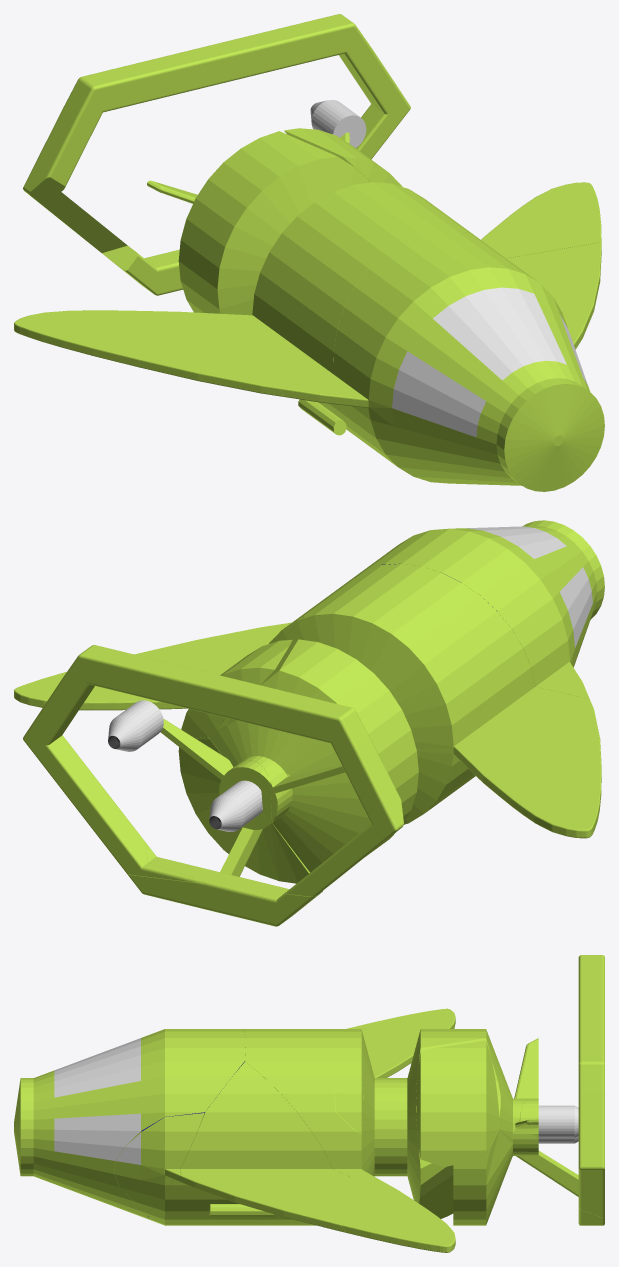
The model's file is ElectroImpulseShip_Destruct.fbx.
3 renders of one model, top to bottom at view 1: azimuth 30°, elevation 25°; view 2: azimuth 150°, elevation 25°; view 3: azimuth 270°, elevation 25°, orthographic. The views are drawn at different scales.
Parts seen in each view (by area): view 1: ElectroImpulse_Frag.00, ElectroImpulse_Frag.11, ElectroImpulse_Frag.08, ElectroImpulse_Frag.02, ElectroImpulse_Frag.09, ElectroImpulse_Frag.05, ElectroImpulse_Frag.04, ElectroImpulse_Frag.01; view 2: ElectroImpulse_Frag.11, ElectroImpulse_Frag.08, ElectroImpulse_Frag.00, ElectroImpulse_Frag.05, ElectroImpulse_Frag.09, ElectroImpulse_Frag.04, ElectroImpulse_Frag.02, ElectroImpulse_Frag.01; view 3: ElectroImpulse_Frag.11, ElectroImpulse_Frag.00, ElectroImpulse_Frag.09, ElectroImpulse_Frag.04, ElectroImpulse_Frag.08, ElectroImpulse_Frag.05, ElectroImpulse_Frag.02, ElectroImpulse_Frag.07, ElectroImpulse_Frag.01, ElectroImpulse_Frag.06, ElectroImpulse_Frag.10.
Boxes of the visible parts, bbox=[...] form: ElectroImpulse_Frag.00: bbox=[281, 232, 604, 491]; ElectroImpulse_Frag.11: bbox=[14, 131, 470, 446]; ElectroImpulse_Frag.08: bbox=[23, 14, 410, 252]; ElectroImpulse_Frag.02: bbox=[481, 182, 601, 258]; ElectroImpulse_Frag.09: bbox=[461, 232, 601, 348]; ElectroImpulse_Frag.05: bbox=[102, 132, 349, 295]; ElectroImpulse_Frag.04: bbox=[284, 128, 402, 186]; ElectroImpulse_Frag.01: bbox=[310, 100, 366, 147]; ElectroImpulse_Frag.11: bbox=[209, 563, 601, 872]; ElectroImpulse_Frag.08: bbox=[23, 645, 403, 896]; ElectroImpulse_Frag.00: bbox=[367, 520, 604, 698]; ElectroImpulse_Frag.05: bbox=[127, 719, 322, 926]; ElectroImpulse_Frag.09: bbox=[134, 565, 381, 675]; ElectroImpulse_Frag.04: bbox=[181, 639, 292, 738]; ElectroImpulse_Frag.02: bbox=[14, 672, 187, 710]; ElectroImpulse_Frag.01: bbox=[108, 700, 163, 751]; ElectroImpulse_Frag.11: bbox=[243, 1008, 538, 1225]; ElectroImpulse_Frag.00: bbox=[14, 1029, 245, 1219]; ElectroImpulse_Frag.09: bbox=[148, 1061, 354, 1232]; ElectroImpulse_Frag.04: bbox=[416, 1040, 498, 1166]; ElectroImpulse_Frag.08: bbox=[578, 955, 604, 1217]; ElectroImpulse_Frag.05: bbox=[453, 1098, 604, 1225]; ElectroImpulse_Frag.02: bbox=[340, 1177, 455, 1252]; ElectroImpulse_Frag.07: bbox=[114, 1113, 204, 1210]; ElectroImpulse_Frag.01: bbox=[538, 1105, 578, 1138]; ElectroImpulse_Frag.06: bbox=[334, 1071, 362, 1133]; ElectroImpulse_Frag.10: bbox=[209, 1204, 273, 1216].
Size of the model in its own units: 858 by 350 by 901.
